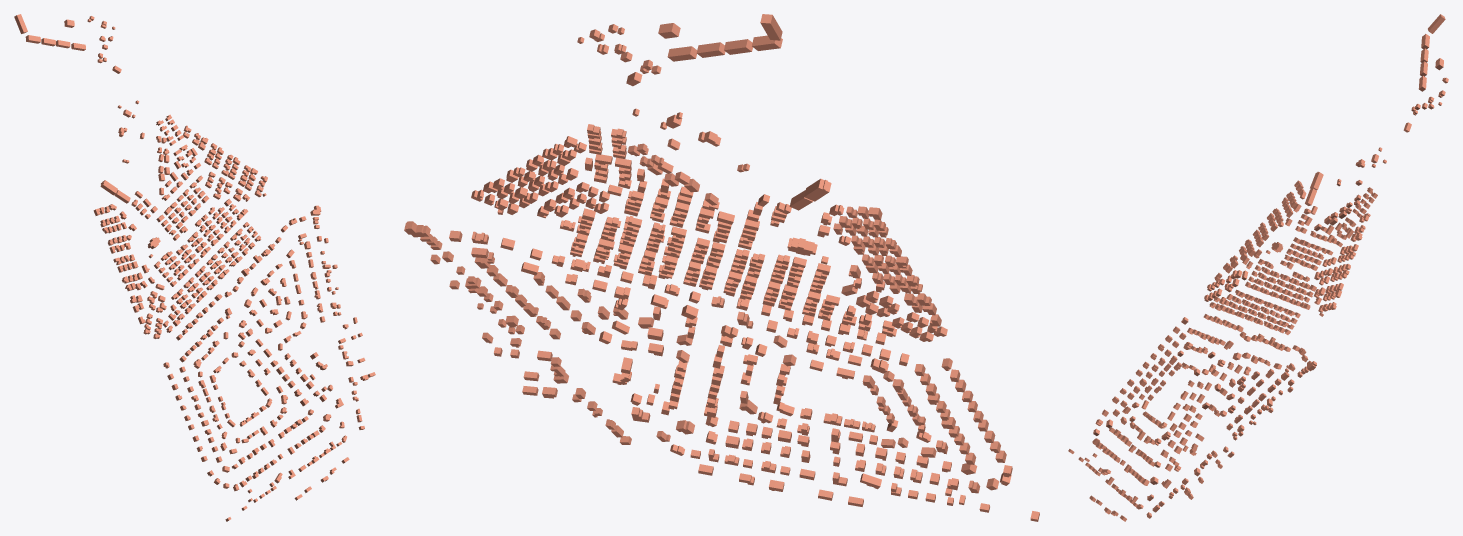
3 renders of one model, left to right at view 1: azimuth 30°, elevation 25°; view 2: azimuth 150°, elevation 25°; view 3: azimuth 270°, elevation 25°, orthographic. The views are drawn at different scales.
Visible parts, largest first — view 1: mesh; view 2: mesh; view 3: mesh.
Boxes of the visible parts, box(x1,y1,x2,y2) form: mesh: box(14, 14, 375, 521); mesh: box(404, 14, 1039, 521); mesh: box(1068, 14, 1448, 521).
Size of the model in its own units: 921 by 1419 by 1154.
